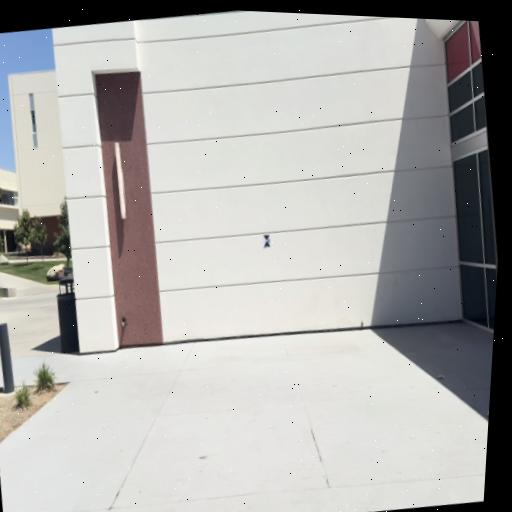target0: (262, 234, 272, 248)
